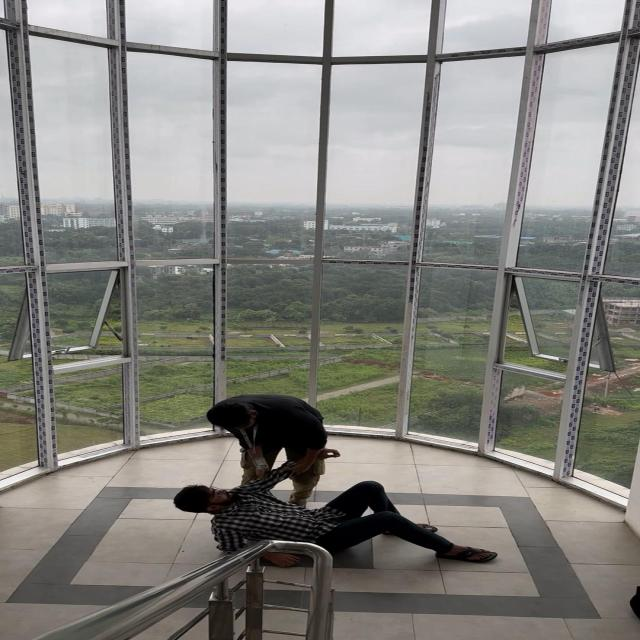fight: (116, 361, 514, 589)
